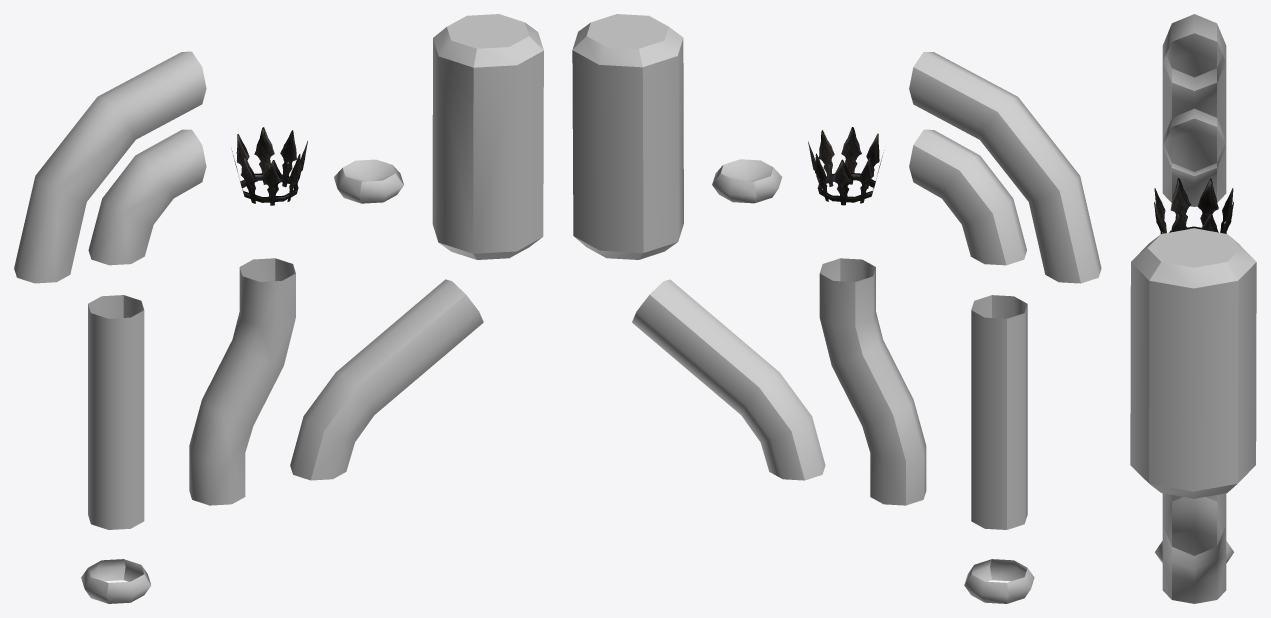
File: pipes.fbx
3 renders of one model, left to right at view 1: azimuth 30°, elevation 25°; view 2: azimuth 150°, elevation 25°; view 3: azimuth 270°, elevation 25°, orthographic. The views are drawn at different scales.
Parts seen in each view (by area): view 1: Boiler1, Curve2, Bendy2, Bendy3, Straight1, Curve1, Burner, Joint1, Joint2; view 2: Boiler1, Curve2, Bendy2, Bendy3, Straight1, Curve1, Burner, Joint1, Joint2; view 3: Boiler1, Bendy3, Curve2, Curve1, Burner, Bendy2, Joint1.
Boxes of the visible parts, x1,y1,x2,y2 form: Boiler1: (432, 14, 543, 259); Curve2: (14, 51, 206, 283); Bendy2: (189, 258, 295, 505); Bendy3: (290, 279, 483, 480); Straight1: (88, 295, 144, 529); Curve1: (88, 129, 206, 265); Burner: (232, 127, 307, 205); Joint1: (81, 559, 151, 603); Joint2: (334, 159, 403, 203); Boiler1: (572, 14, 683, 259); Curve2: (909, 52, 1101, 283); Bendy2: (819, 258, 926, 505); Bendy3: (632, 279, 825, 480); Straight1: (971, 295, 1027, 529); Curve1: (909, 129, 1026, 265); Burner: (808, 127, 884, 205); Joint1: (964, 559, 1034, 603); Joint2: (712, 159, 782, 203); Boiler1: (1130, 228, 1256, 498); Bendy3: (1162, 497, 1226, 603); Curve2: (1162, 14, 1226, 139); Curve1: (1162, 108, 1226, 206); Burner: (1154, 178, 1233, 233); Bendy2: (1162, 493, 1226, 523); Joint1: (1155, 541, 1233, 563).
Bounding box in the file's own units: 413 × 395 × 79.22.
